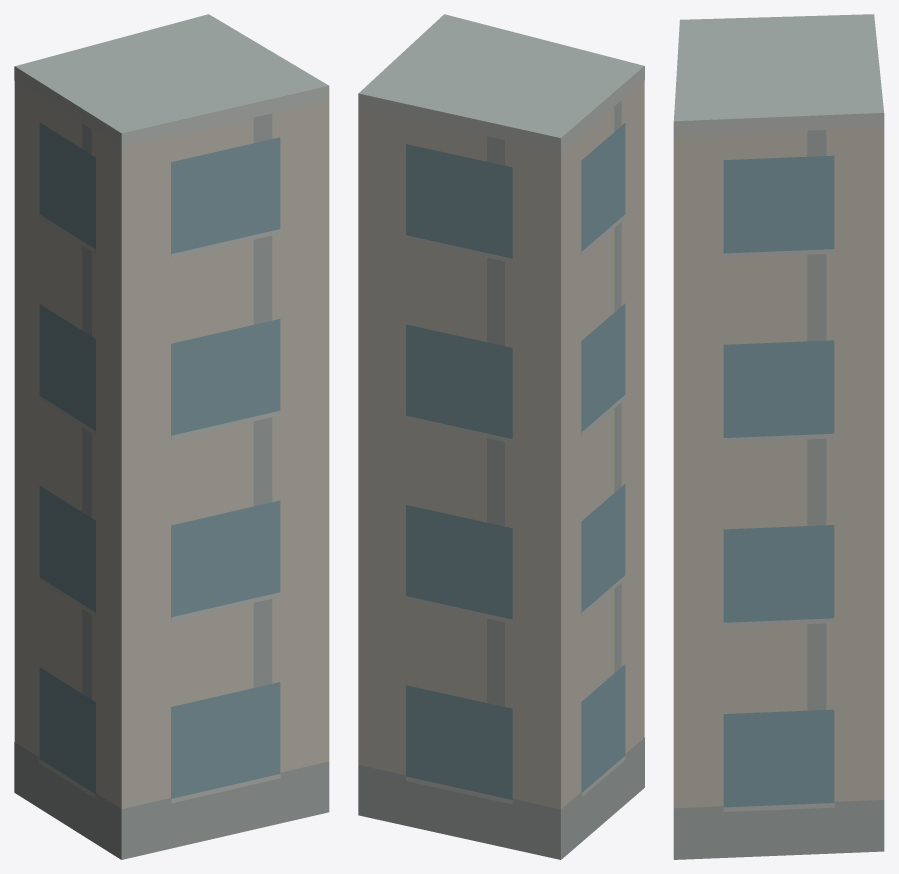
File: survey-upis-32623373.glb
3 views of the same model, side by side, from view 1: azimuth 30°, elevation 25°; view 2: azimuth 150°, elevation 25°; view 3: azimuth 270°, elevation 25° (orthographic). The views are drawn at different scales.
Visible parts, largest first — view 1: survey-upis-32623373.tmp; view 2: survey-upis-32623373.tmp; view 3: survey-upis-32623373.tmp.
Boxes of the visible parts, x1,y1,x2,y2 form: survey-upis-32623373.tmp: (14,14,329,859); survey-upis-32623373.tmp: (358,14,644,859); survey-upis-32623373.tmp: (673,14,884,859).
Bounding box in the file's own units: 3.81 × 12.2 × 3.16.
